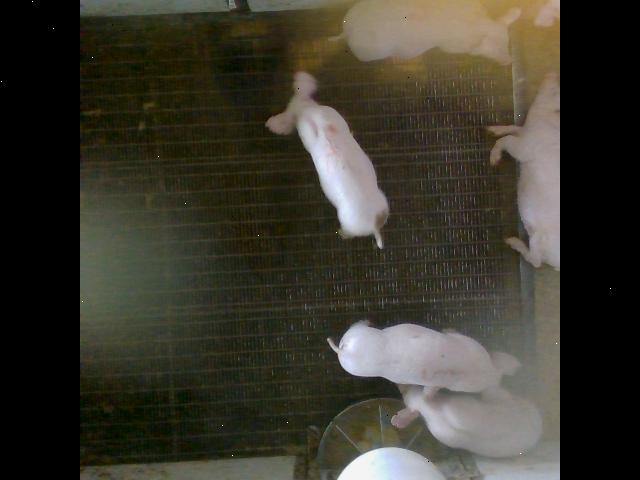pig-3: (328, 320, 519, 395)
pig-5: (266, 71, 389, 248)
